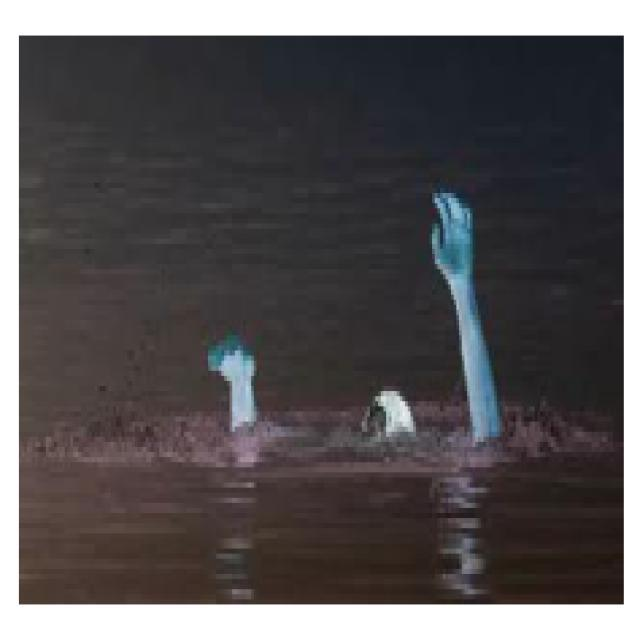Out of Water: (206, 188, 508, 464)
